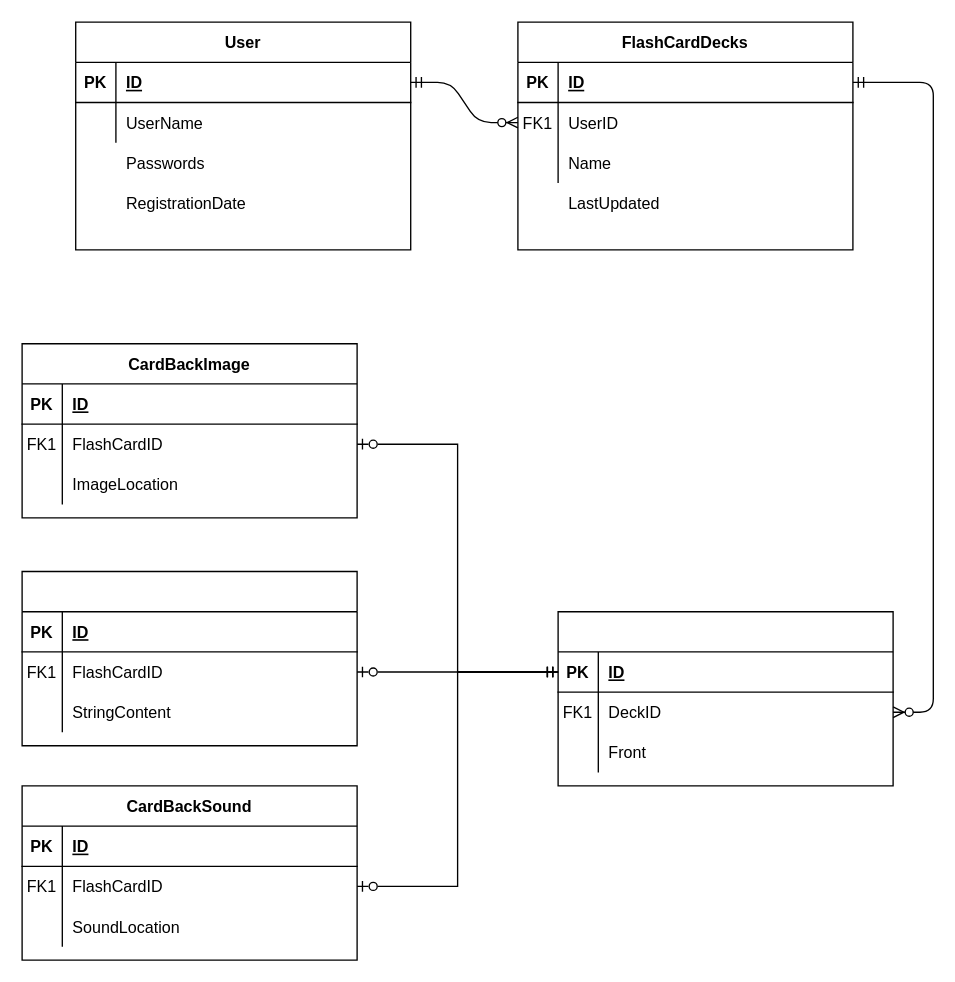
Image size: 955x982. Some labels were removed from this diagram. The box of each missing label's shape, as (x1, y1, x2, y2) in pixels:
CardBackString: (21, 570, 357, 746)
FlashCard: (557, 610, 893, 786)
